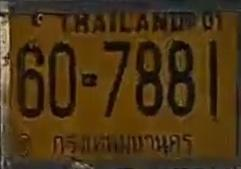0: (48, 41, 76, 117)
1: (208, 39, 218, 114)
6: (16, 42, 44, 118)
7: (103, 40, 130, 117)
8: (167, 40, 195, 115), (135, 40, 162, 114)
BKK: (51, 129, 195, 157)
